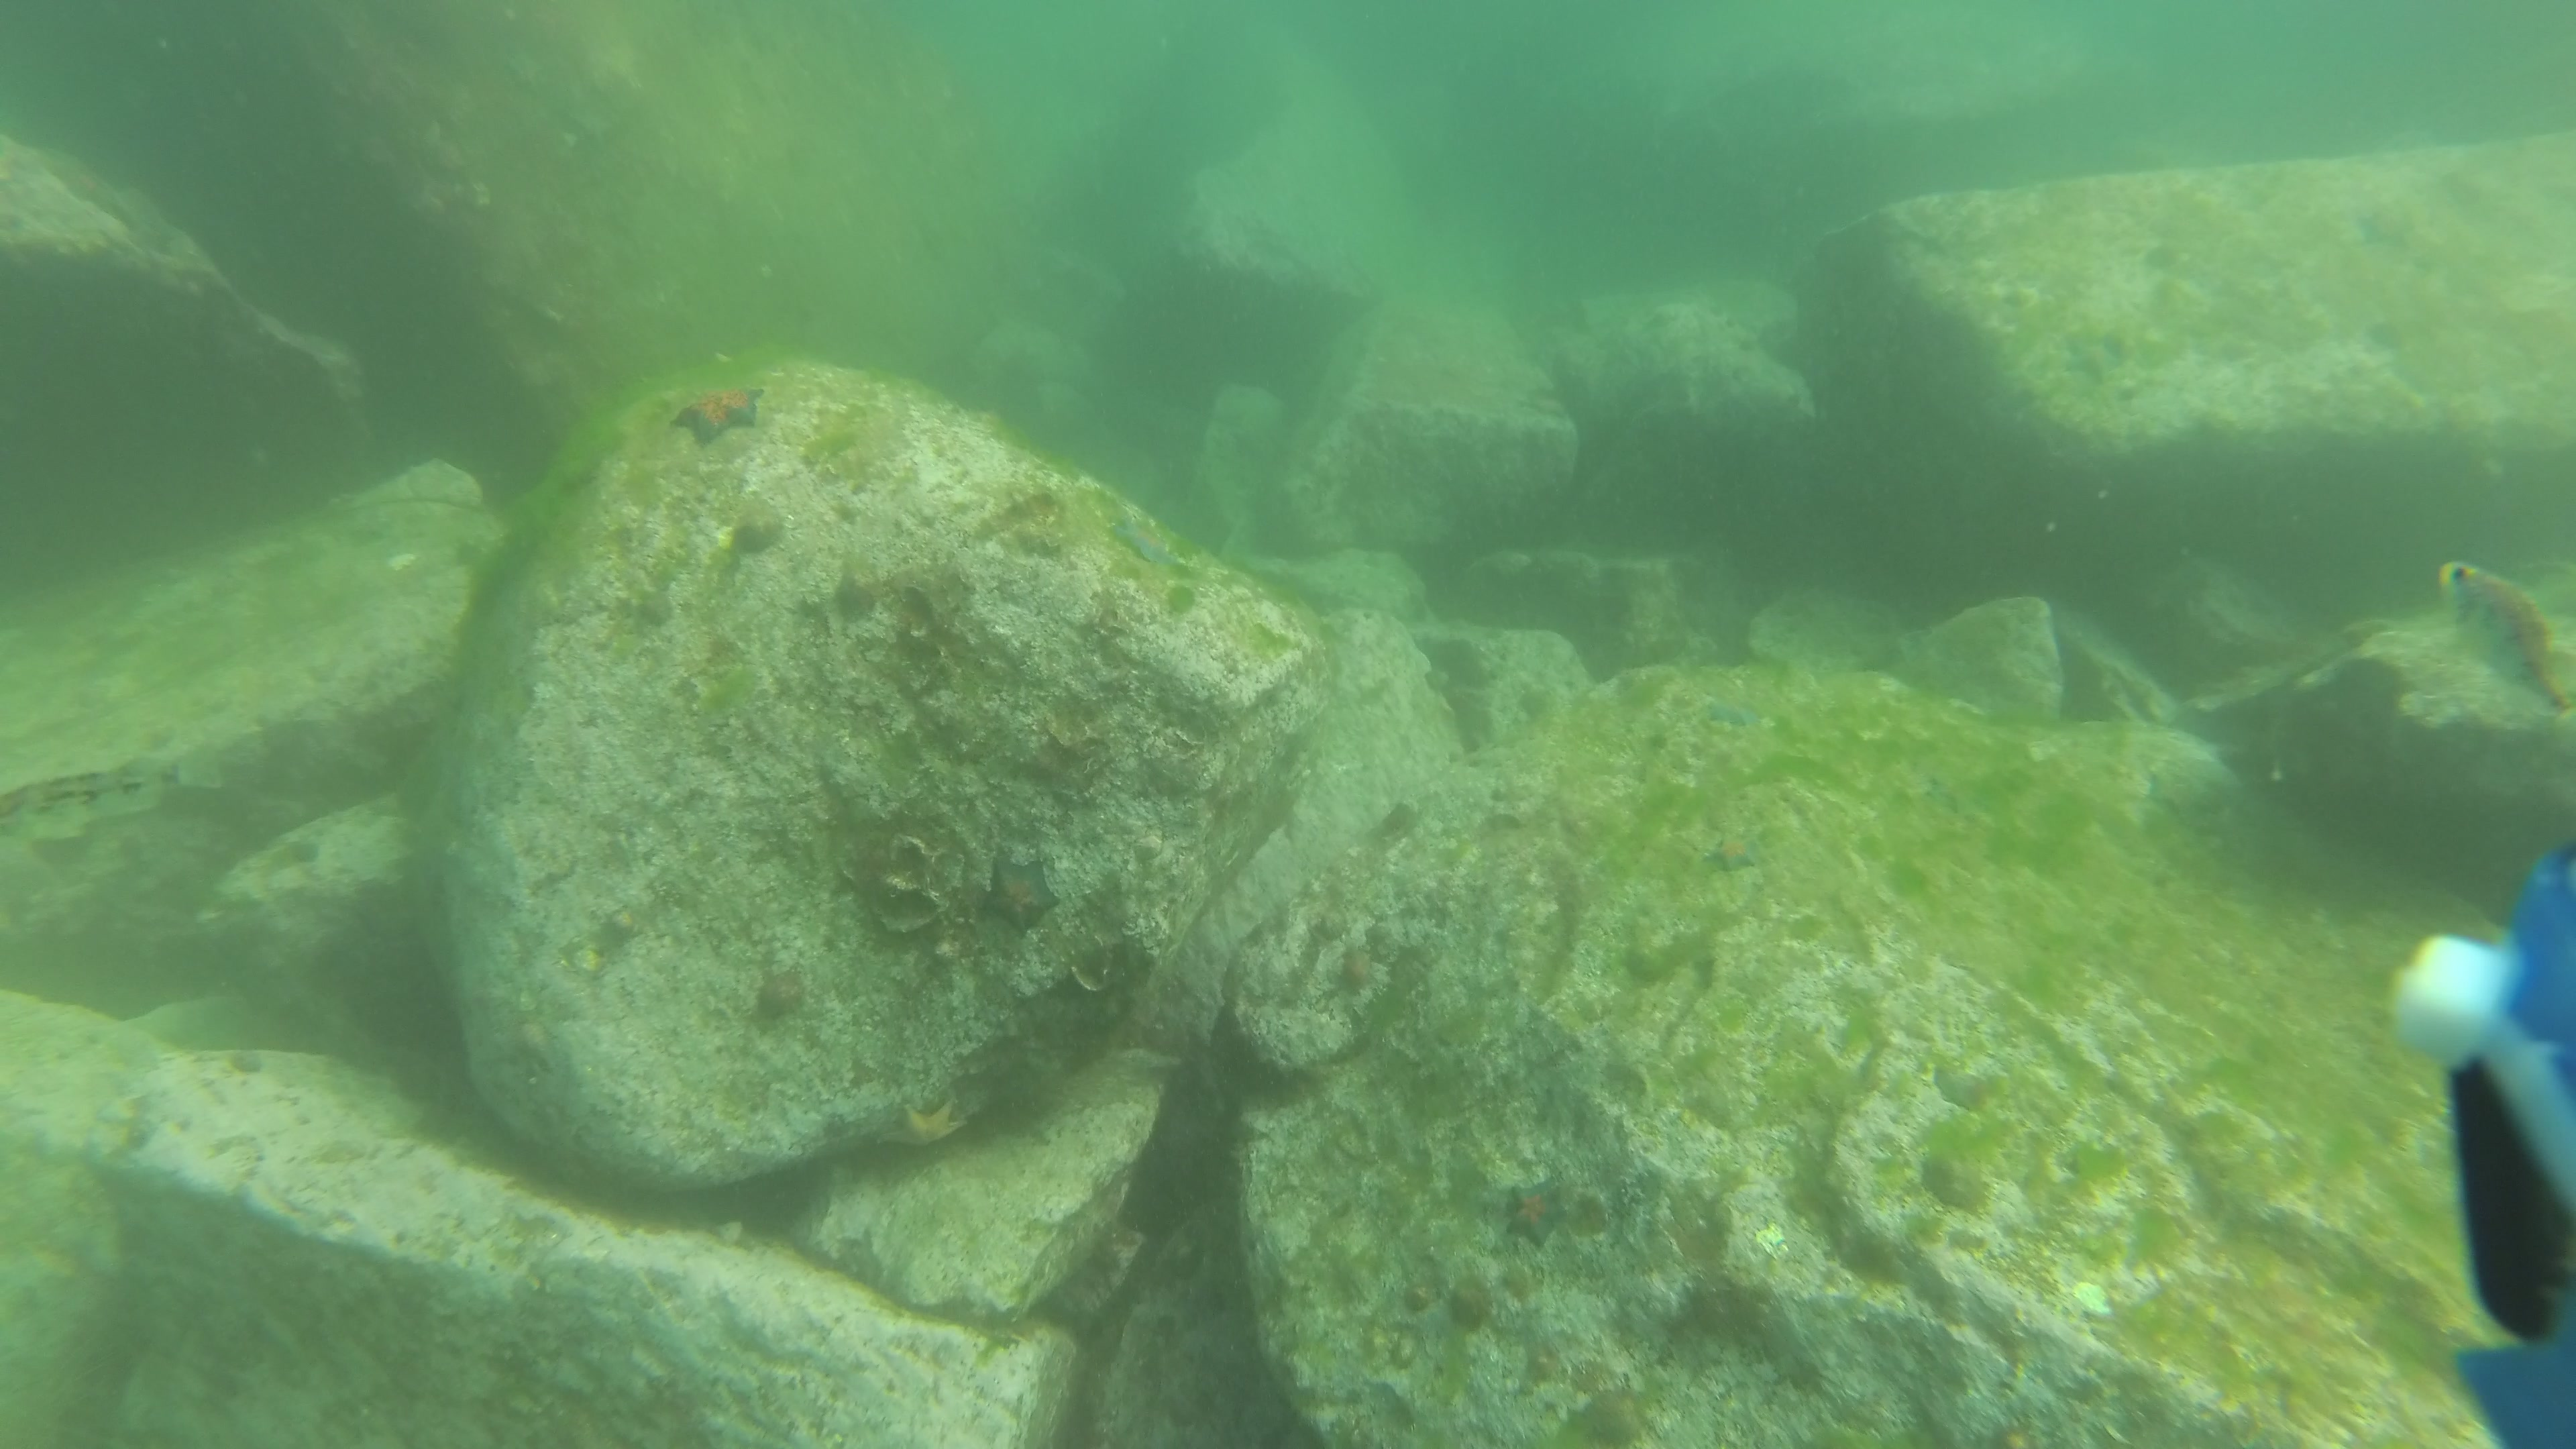starfish: (975, 847, 1065, 938), (667, 382, 768, 446), (1500, 1171, 1576, 1249), (881, 1093, 971, 1155), (1104, 508, 1180, 568), (1704, 824, 1767, 881), (1706, 688, 1760, 734)
